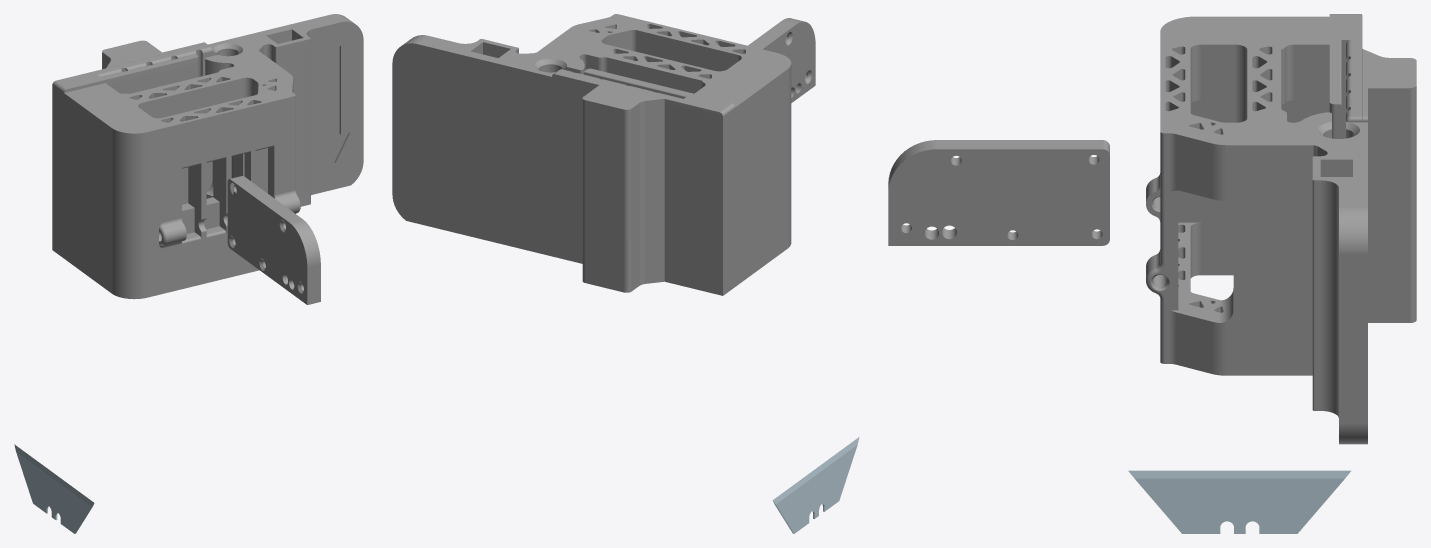
File: reamus-keder-cutting-tool.glb
The picture shows the model from 3 angles, left to right: view 1: azimuth 30°, elevation 25°; view 2: azimuth 150°, elevation 25°; view 3: azimuth 270°, elevation 25°; orthographic projection. The views are drawn at different scales.
Visible parts, largest first — view 1: =>[0:1:1:3], Razorblade_Mockup v1:1; view 2: =>[0:1:1:3], Razorblade_Mockup v1:1; view 3: =>[0:1:1:3], Razorblade_Mockup v1:1.
Boxes of the visible parts, x1=… form: =>[0:1:1:3]: x1=52, y1=14, x2=363, y2=304; Razorblade_Mockup v1:1: x1=14, y1=444, x2=94, y2=533; =>[0:1:1:3]: x1=392, y1=14, x2=815, y2=295; Razorblade_Mockup v1:1: x1=772, y1=437, x2=859, y2=533; =>[0:1:1:3]: x1=888, y1=14, x2=1416, y2=444; Razorblade_Mockup v1:1: x1=1128, y1=470, x2=1350, y2=533.
Bounding box in the file's own units: 0.1528 × 0.1669 × 0.1454.
